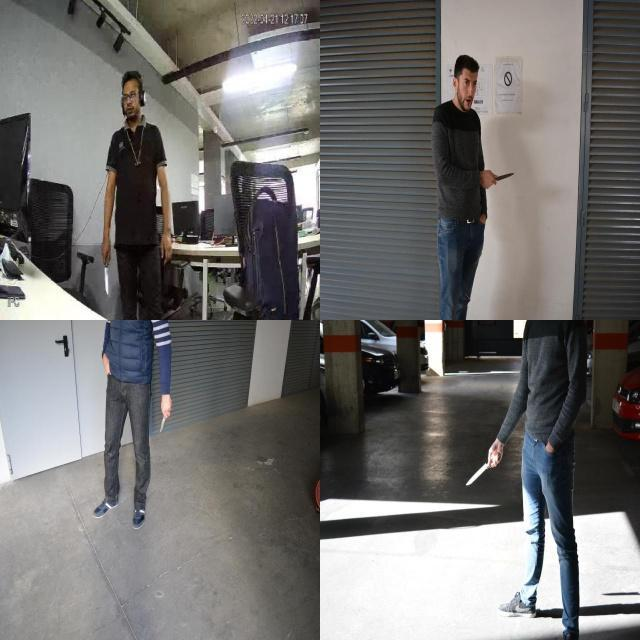-: (463, 449, 500, 487), (157, 398, 172, 435), (490, 167, 516, 186), (101, 255, 112, 297)
